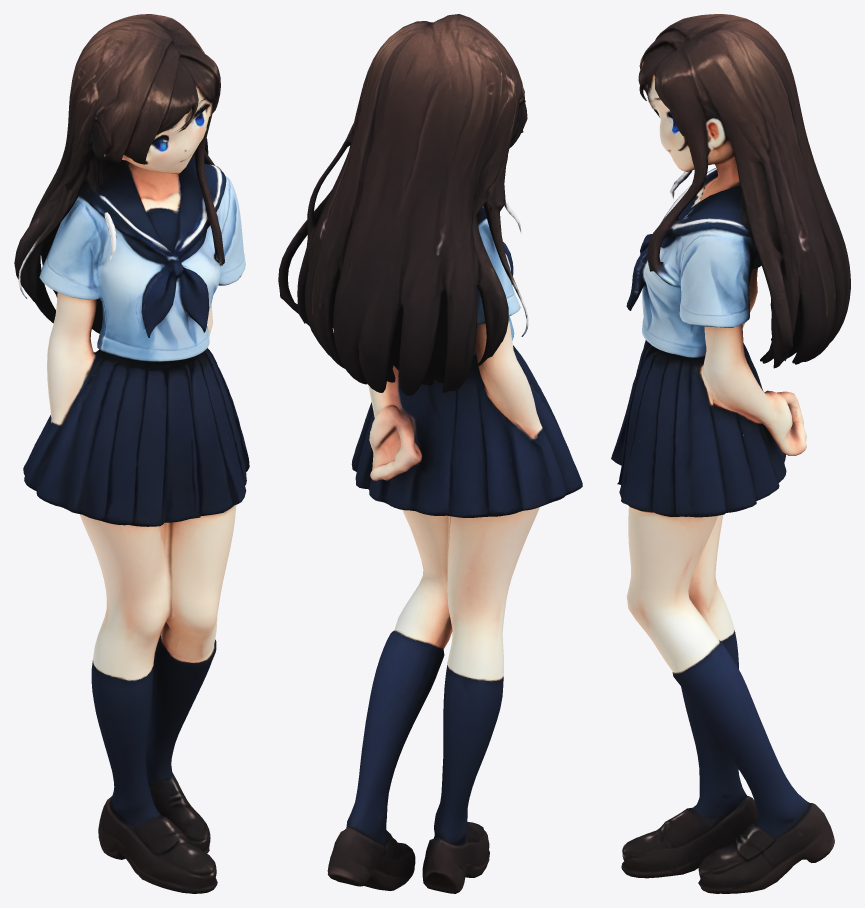
The model's file is base_basic_shaded.glb.
The picture shows the model from 3 angles, left to right: view 1: azimuth 30°, elevation 25°; view 2: azimuth 150°, elevation 25°; view 3: azimuth 270°, elevation 25°; orthographic projection. The views are drawn at different scales.
Parts seen in each view (by area): view 1: model; view 2: model; view 3: model.
Part boxes in pixels (<box>): model: <box>14,14,249,893</box>; model: <box>278,14,582,893</box>; model: <box>611,14,850,893</box>.
Bounding box in the file's own units: 0.5754 × 1.9 × 0.4869.
1 material, 1 textured.
